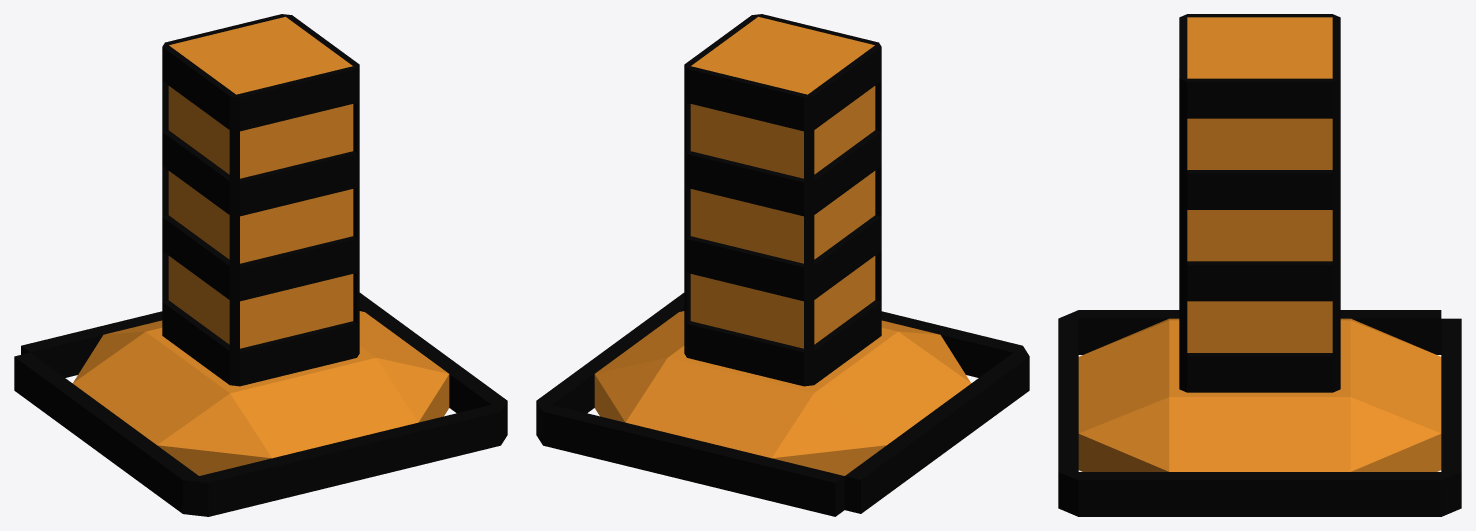
File: column_obstacle.glb
3 views of the same model, side by side, from view 1: azimuth 30°, elevation 25°; view 2: azimuth 150°, elevation 25°; view 3: azimuth 270°, elevation 25° (orthographic). The views are drawn at different scales.
Parts seen in each view (by area): view 1: Cube.028, GroundCube, Cube.003, Cube, Cube.027, Cube.023, Cube.019, Cube.011, Cube.015, Cube.002, Cube.001, Cube.024 (+6 smaller); view 2: Cube.028, GroundCube, Cube.001, Cube, Cube.025, Cube.021, Cube.017, Cube.009, Cube.014, Cube.002, Cube.003, Cube.024 (+5 smaller); view 3: GroundCube, Cube.028, Cube.002, Cube.018, Cube.026, Cube.010, Cube.022, Cube, Cube.001, Cube.003, Cube.012, Cube.013 (+5 smaller).
Boxes of the visible parts, <box> form: Cube.028: <box>168,16,353,348</box>; GroundCube: <box>72,311,449,475</box>; Cube.003: <box>199,405,500,516</box>; Cube: <box>14,352,198,513</box>; Cube.027: <box>236,66,356,131</box>; Cube.023: <box>240,151,356,216</box>; Cube.019: <box>240,236,356,301</box>; Cube.011: <box>240,321,356,386</box>; Cube.015: <box>229,95,239,386</box>; Cube.002: <box>359,293,507,412</box>; Cube.001: <box>21,311,162,377</box>; Cube.024: <box>162,45,235,129</box>; Cube.028: <box>690,16,875,348</box>; GroundCube: <box>594,311,971,475</box>; Cube.001: <box>543,405,844,516</box>; Cube: <box>844,352,1029,513</box>; Cube.025: <box>687,66,807,131</box>; Cube.021: <box>687,151,803,216</box>; Cube.017: <box>687,236,803,301</box>; Cube.009: <box>687,321,803,386</box>; Cube.014: <box>804,95,814,386</box>; Cube.002: <box>536,293,684,412</box>; Cube.003: <box>881,311,1022,377</box>; Cube.024: <box>808,45,881,129</box>; GroundCube: <box>1078,318,1441,471</box>; Cube.028: <box>1187,17,1332,352</box>; Cube.002: <box>1078,472,1441,516</box>; Cube.018: <box>1187,261,1332,301</box>; Cube.026: <box>1187,78,1332,118</box>; Cube.010: <box>1187,353,1332,392</box>; Cube.022: <box>1187,170,1332,209</box>; Cube: <box>1078,310,1441,354</box>; Cube.001: <box>1441,318,1461,471</box>; Cube.003: <box>1058,318,1078,471</box>; Cube.012: <box>1179,78,1187,392</box>; Cube.013: <box>1332,78,1340,392</box>.
Size of the model in its own units: 2 by 2.1 by 2.
